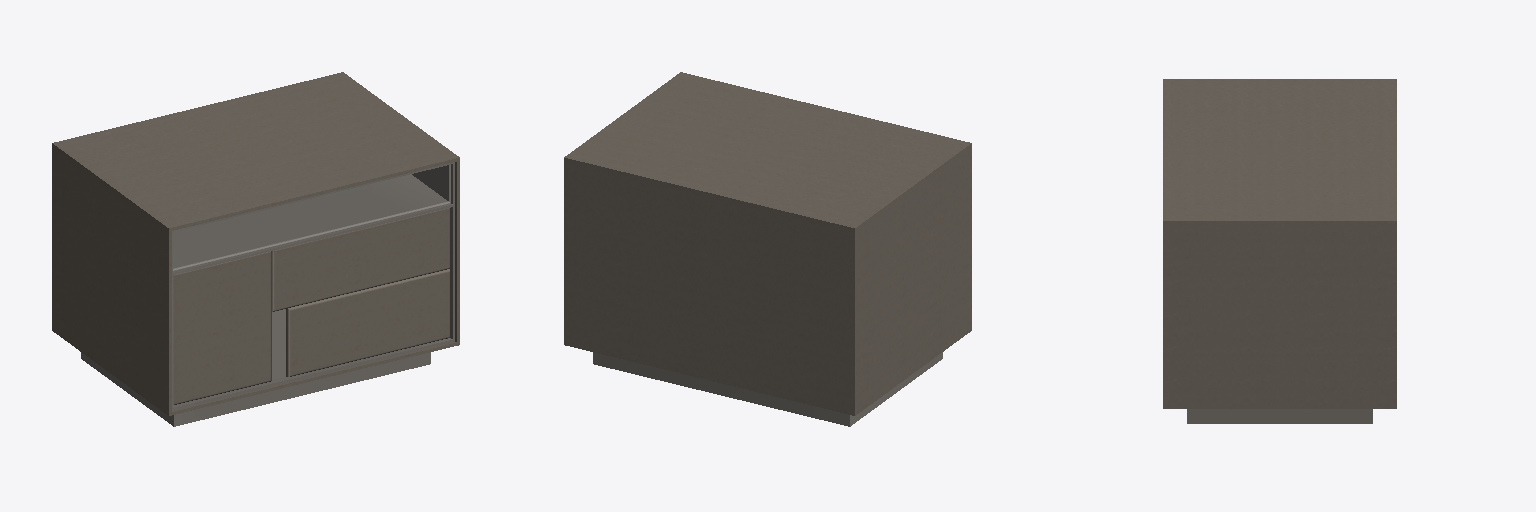
The picture shows the model from 3 angles: view 1: azimuth 30°, elevation 25°; view 2: azimuth 150°, elevation 25°; view 3: azimuth 270°, elevation 25°; orthographic projection.
Visible parts, largest first — view 1: solid_001, solid_002; view 2: solid_001, solid_002; view 3: solid_001, solid_002.
Part boxes in pixels (x1,y1,x2,y2): solid_001: (52, 72, 459, 415); solid_002: (81, 162, 454, 426); solid_001: (564, 72, 971, 415); solid_002: (593, 352, 942, 426); solid_001: (1163, 79, 1396, 408); solid_002: (1187, 409, 1372, 423).
Bounding box in the file's own units: 1.68 × 1.16 × 1.16.
Materials: 1 (1 with a texture image).